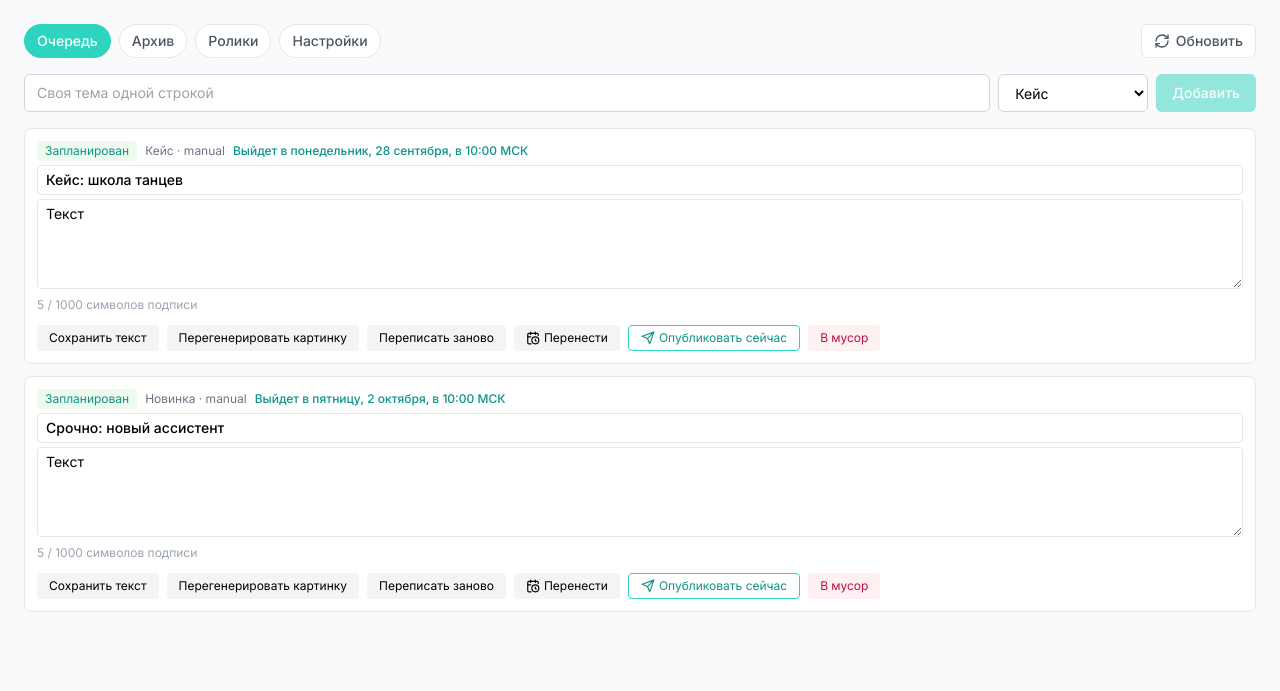
Test: перенос слота › выбор слота уходит с версией поста, после успеха очередь перечитана
Click the 1st button "Перенести": point(567, 338) 514,325 -> 620,351
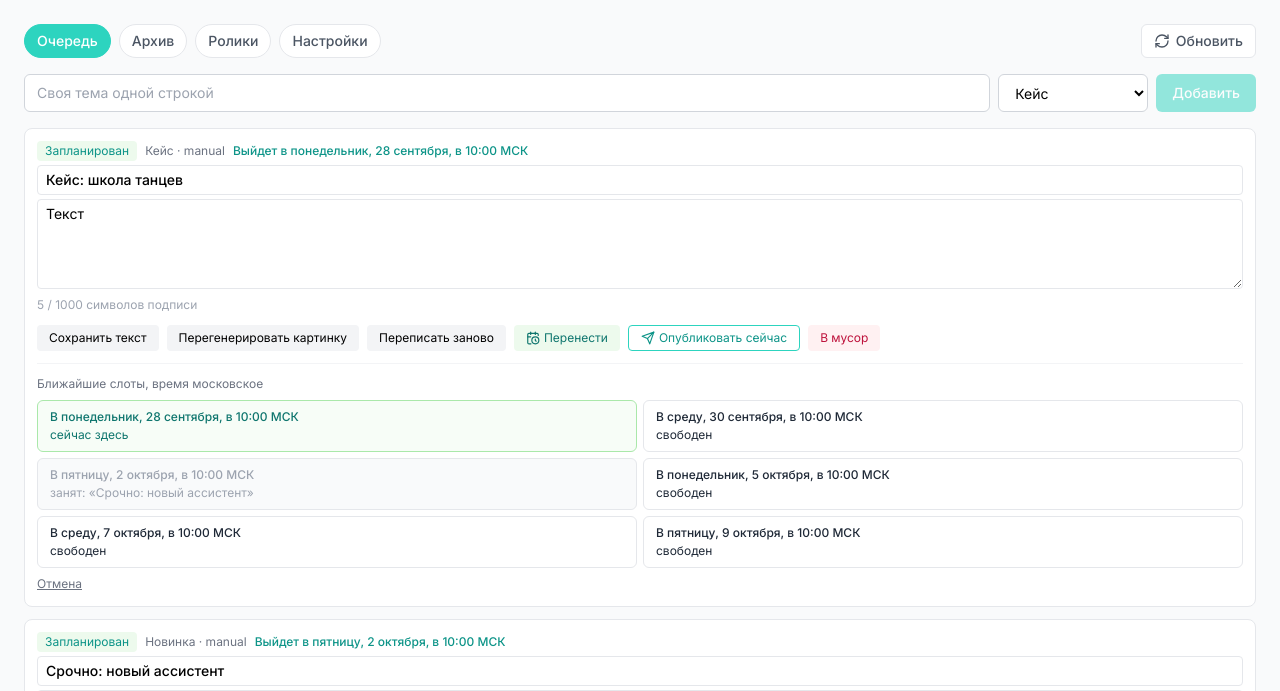
Click the button "В среду, 30 сентября, в 10:00 МСК свободен": point(759, 416) 643,400 -> 1243,452
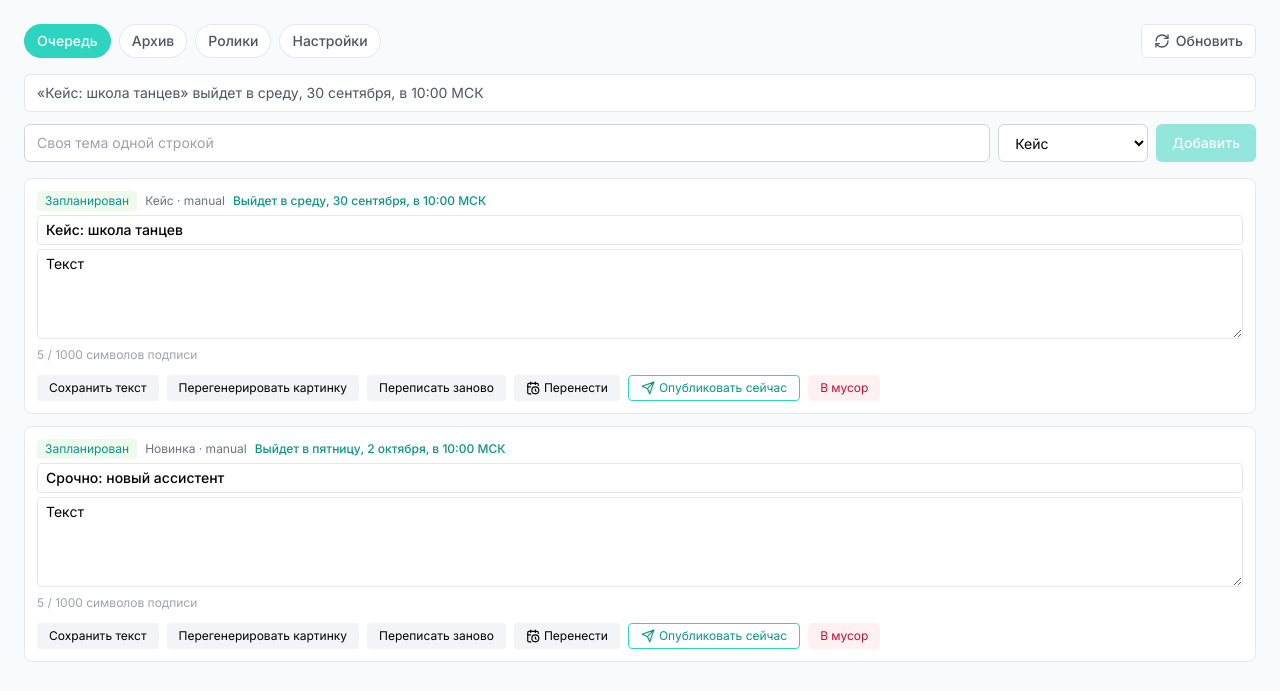
Check: the text "Выйдет в среду, 30 сентября, в 10:00 МСК" is shown, box 233,193 -> 486,209
